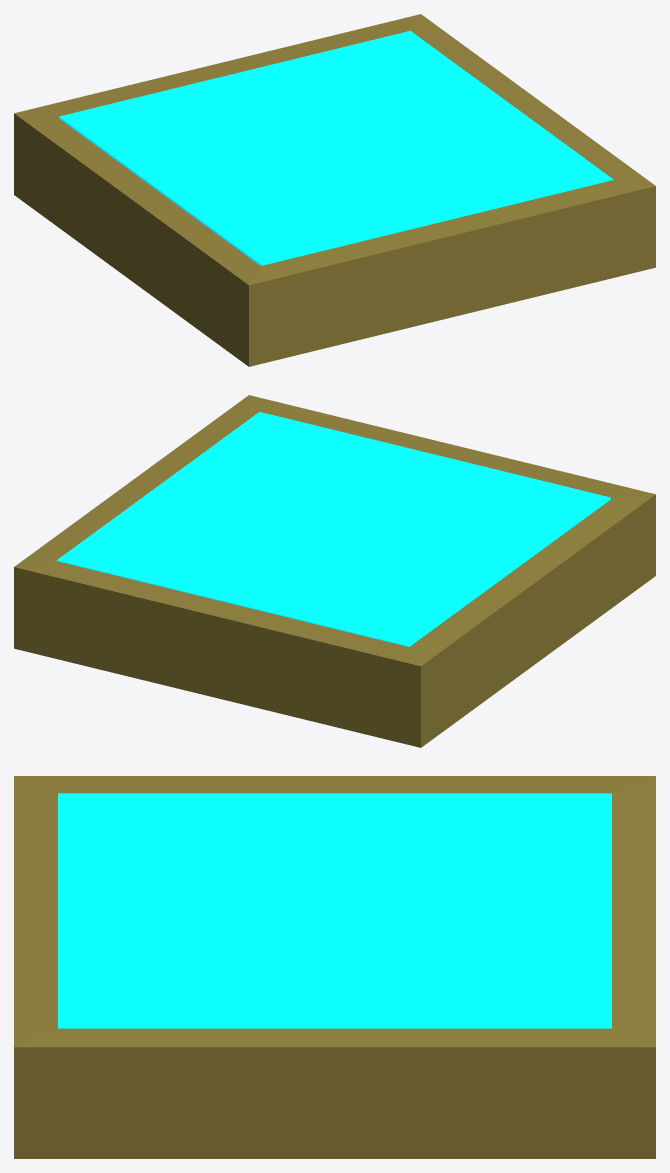
Rendered from squarePressed.glb.
3 renders of one model, top to bottom at view 1: azimuth 30°, elevation 25°; view 2: azimuth 150°, elevation 25°; view 3: azimuth 270°, elevation 25°, orthographic. The views are drawn at different scales.
Parts seen in each view (by area): view 1: Cube.001; view 2: Cube.001; view 3: Cube.001.
Part boxes in pixels (x1=…): Cube.001: x1=14, y1=14, x2=655, y2=366; Cube.001: x1=14, y1=395, x2=655, y2=747; Cube.001: x1=14, y1=776, x2=655, y2=1158.
Size of the model in its own units: 1 by 0.2 by 1.
